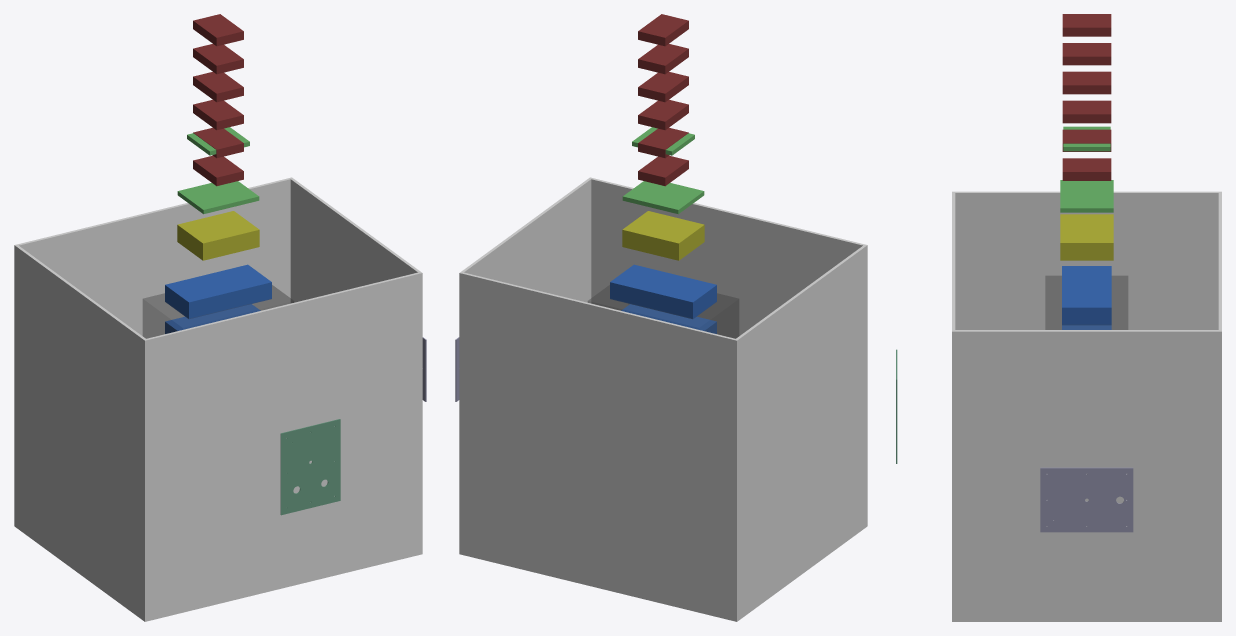
The model's file is assembly-exploded.glb.
The picture shows the model from 3 angles, left to right: view 1: azimuth 30°, elevation 25°; view 2: azimuth 150°, elevation 25°; view 3: azimuth 270°, elevation 25°; orthographic projection. The views are drawn at different scales.
Parts seen in each view (by area): view 1: container_shell, ARC-PLT-CD, CMP-NODE-002#7, CMP-CDU-001, CMP-RACK-001, CMP-SWITCH-001, CMP-PDU-001#6, CMP-PDU-001#3, CMP-PDU-001#4, CMP-PDU-001#5, CMP-PDU-001#1, CMP-NODE-002#6 (+1 smaller); view 2: container_shell, CMP-NODE-002#7, CMP-CDU-001, CMP-RACK-001, CMP-SWITCH-001, CMP-PDU-001#6, CMP-PDU-001#3, CMP-PDU-001#4, CMP-PDU-001#5, CMP-PDU-001#1, CMP-NODE-002#6, CMP-PDU-001#2; view 3: container_shell, ARC-PLT-CG, CMP-NODE-002#7, CMP-CDU-001, CMP-RACK-001, CMP-SWITCH-001, CMP-PDU-001#3, CMP-PDU-001#4, CMP-PDU-001#1, CMP-PDU-001#6, CMP-PDU-001#5, CMP-PDU-001#2 (+1 smaller).
Part boxes in pixels (bbox=[...]): container_shell: bbox=[14, 177, 422, 621]; ARC-PLT-CD: bbox=[280, 419, 340, 515]; CMP-NODE-002#7: bbox=[165, 264, 271, 319]; CMP-CDU-001: bbox=[177, 211, 259, 260]; CMP-RACK-001: bbox=[143, 285, 293, 338]; CMP-SWITCH-001: bbox=[177, 181, 259, 214]; CMP-PDU-001#6: bbox=[193, 14, 243, 46]; CMP-PDU-001#3: bbox=[193, 99, 243, 130]; CMP-PDU-001#4: bbox=[193, 72, 243, 102]; CMP-PDU-001#5: bbox=[193, 44, 243, 74]; CMP-PDU-001#1: bbox=[193, 155, 243, 186]; CMP-NODE-002#6: bbox=[165, 304, 260, 333]; container_shell: bbox=[459, 177, 867, 621]; CMP-NODE-002#7: bbox=[610, 264, 716, 319]; CMP-CDU-001: bbox=[622, 211, 704, 260]; CMP-RACK-001: bbox=[588, 285, 738, 338]; CMP-SWITCH-001: bbox=[622, 181, 704, 214]; CMP-PDU-001#6: bbox=[638, 14, 688, 46]; CMP-PDU-001#3: bbox=[638, 99, 688, 130]; CMP-PDU-001#4: bbox=[638, 72, 688, 102]; CMP-PDU-001#5: bbox=[638, 44, 688, 74]; CMP-PDU-001#1: bbox=[638, 155, 688, 186]; CMP-NODE-002#6: bbox=[621, 304, 716, 333]; CMP-PDU-001#2: bbox=[638, 127, 688, 158]; container_shell: bbox=[952, 191, 1221, 621]; ARC-PLT-CG: bbox=[1040, 467, 1133, 532]; CMP-NODE-002#7: bbox=[1062, 266, 1111, 325]; CMP-CDU-001: bbox=[1060, 214, 1113, 260]; CMP-RACK-001: bbox=[1045, 276, 1127, 329]; CMP-SWITCH-001: bbox=[1060, 180, 1113, 212]; CMP-PDU-001#3: bbox=[1062, 100, 1111, 123]; CMP-PDU-001#4: bbox=[1062, 71, 1111, 94]; CMP-PDU-001#1: bbox=[1062, 158, 1111, 180]; CMP-PDU-001#6: bbox=[1062, 14, 1111, 36]; CMP-PDU-001#5: bbox=[1062, 43, 1111, 65]; CMP-PDU-001#2: bbox=[1062, 129, 1111, 151].
Bounding box in the file's own units: 3496 × 5296 × 2943.
